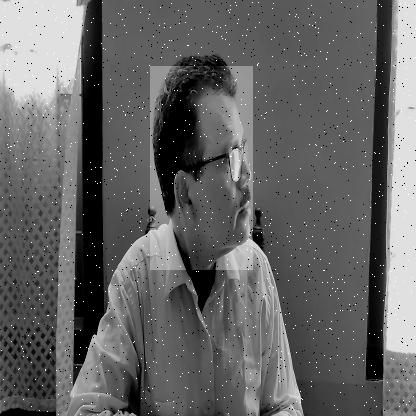Distracted: (150, 66, 253, 270)
